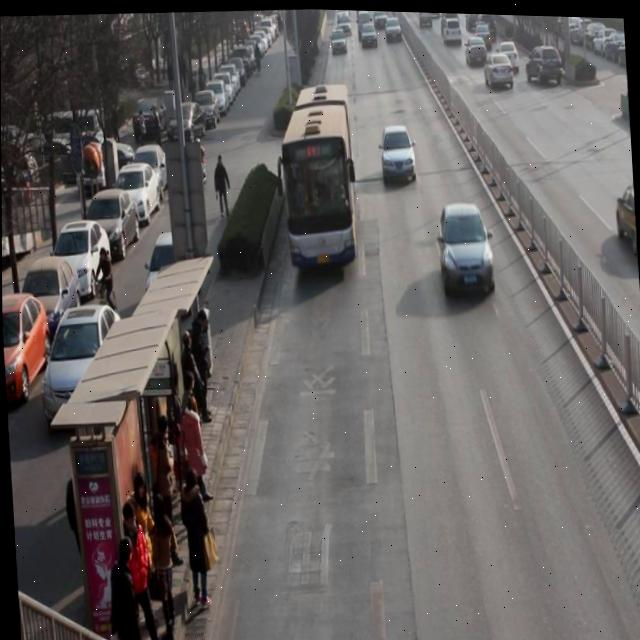car: (436, 200, 496, 296), (380, 122, 418, 186), (524, 41, 564, 85), (483, 50, 515, 89), (464, 33, 488, 66), (498, 37, 519, 71)
van: (278, 81, 358, 269)
